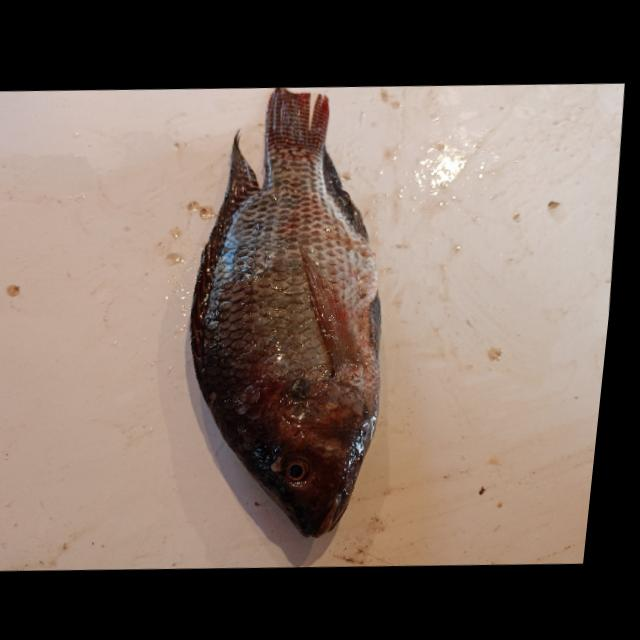Tilapia: (158, 82, 416, 544)
